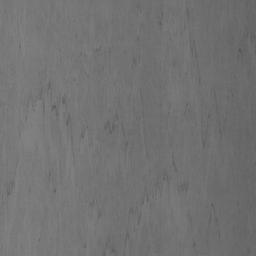Silk spot: (0, 2, 234, 256), (0, 131, 31, 216), (232, 2, 256, 78), (187, 203, 220, 248)
